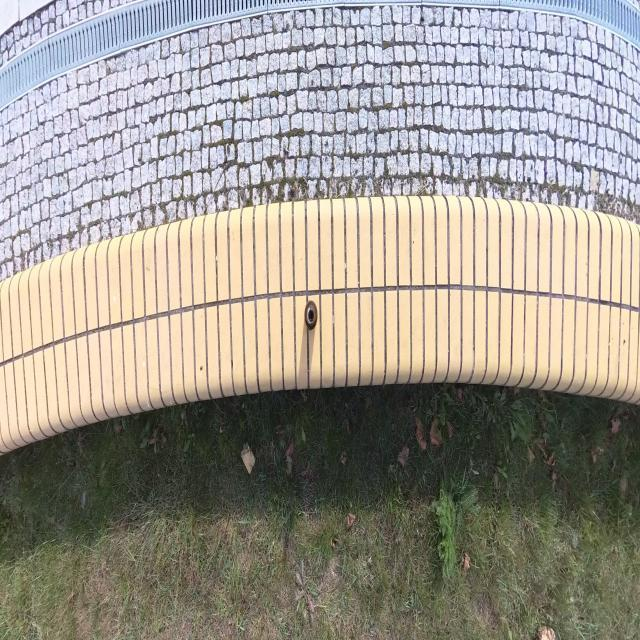rubbish: (535, 623, 559, 640), (305, 298, 317, 326)
